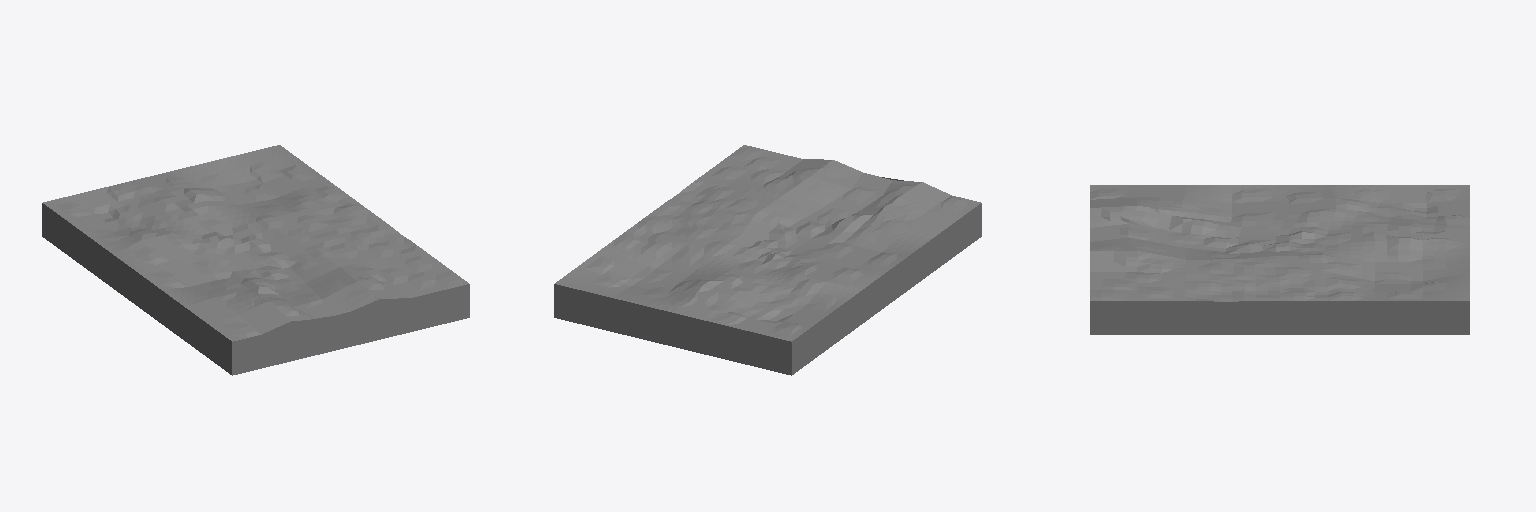
Rendered from EnvironmentMapTest001.obj.
3 views of the same model, side by side, from view 1: azimuth 30°, elevation 25°; view 2: azimuth 150°, elevation 25°; view 3: azimuth 270°, elevation 25° (orthographic).
Parts seen in each view (by area): view 1: EnvironmentMapTest001; view 2: EnvironmentMapTest001; view 3: EnvironmentMapTest001.
Part boxes in pixels (x1,y1,x2,y2): EnvironmentMapTest001: (42,145,469,375); EnvironmentMapTest001: (554,145,981,375); EnvironmentMapTest001: (1090,185,1469,334).
Size of the model in its own units: 121 by 20.71 by 168.